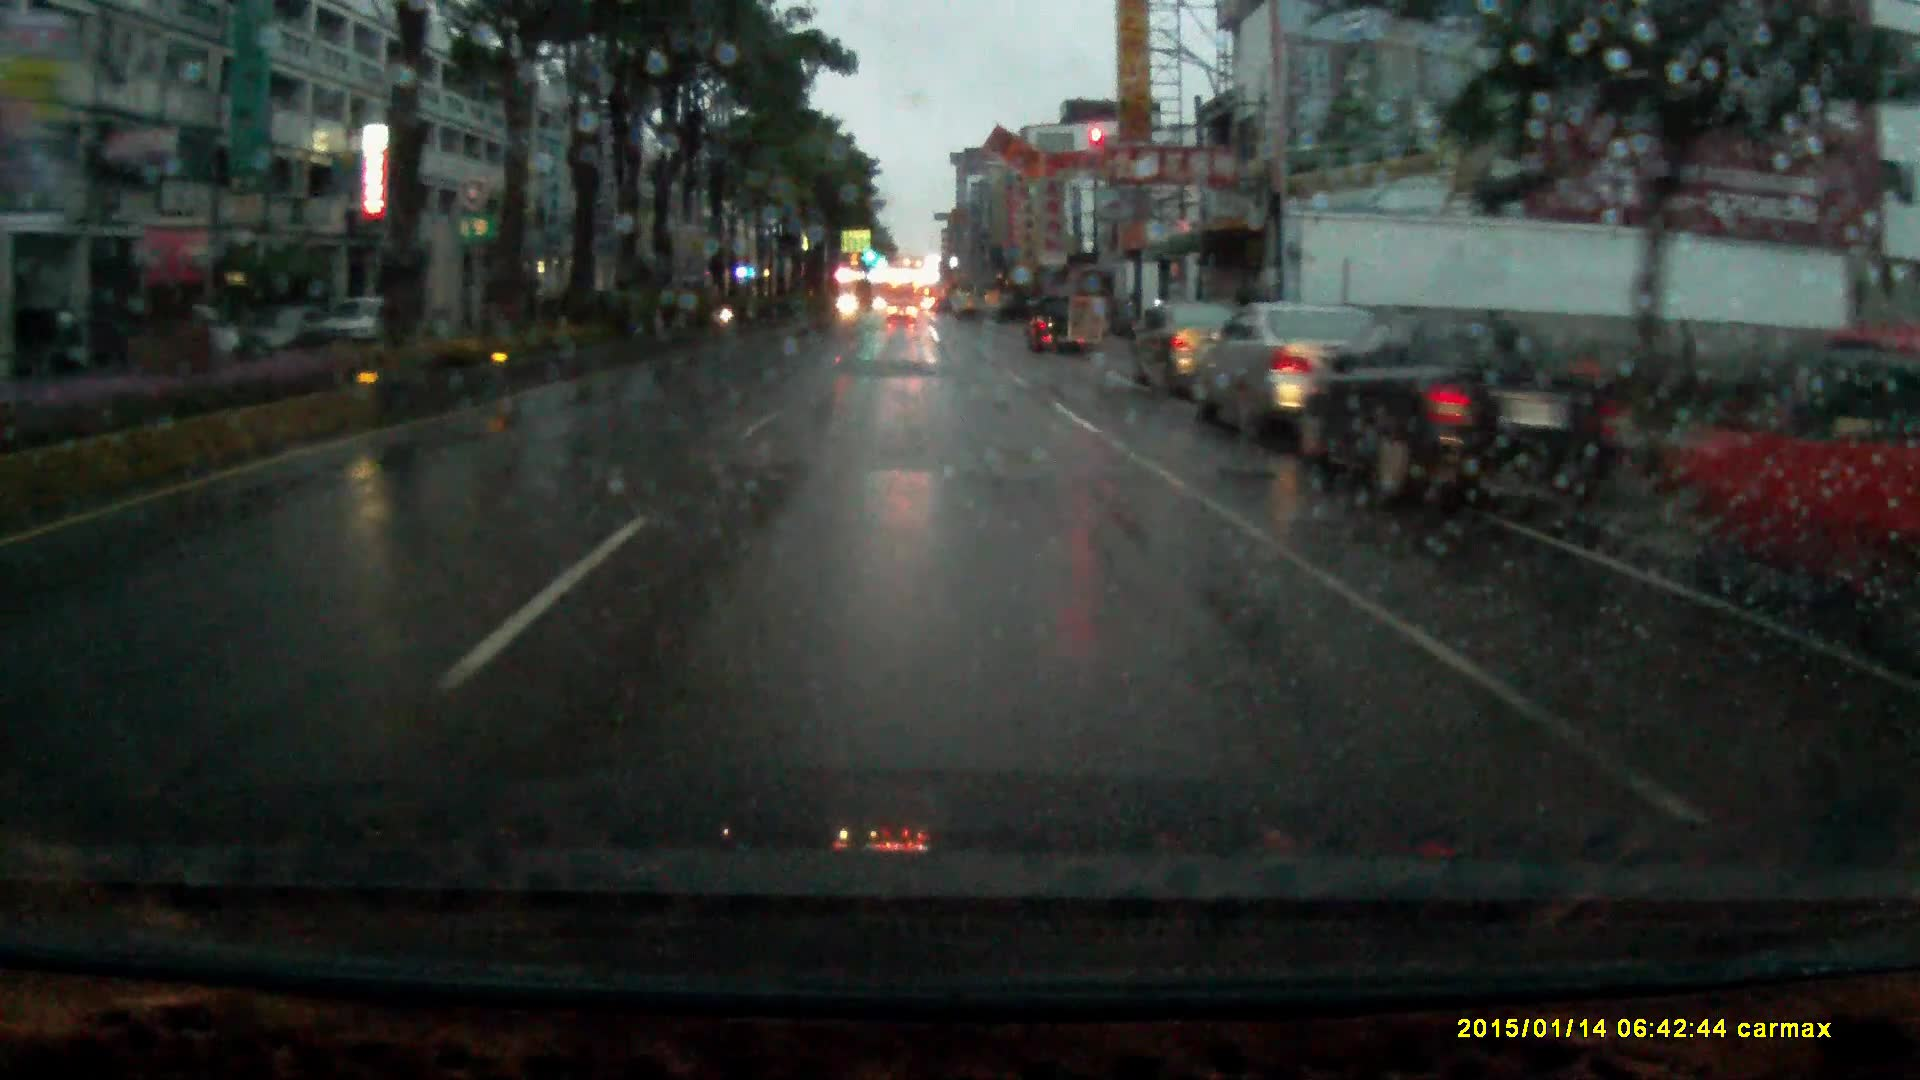vehicle: (1313, 303, 1582, 498), (1193, 295, 1439, 430), (1129, 299, 1242, 400), (306, 294, 429, 349), (152, 305, 241, 363), (1025, 287, 1091, 360), (886, 297, 920, 326)
